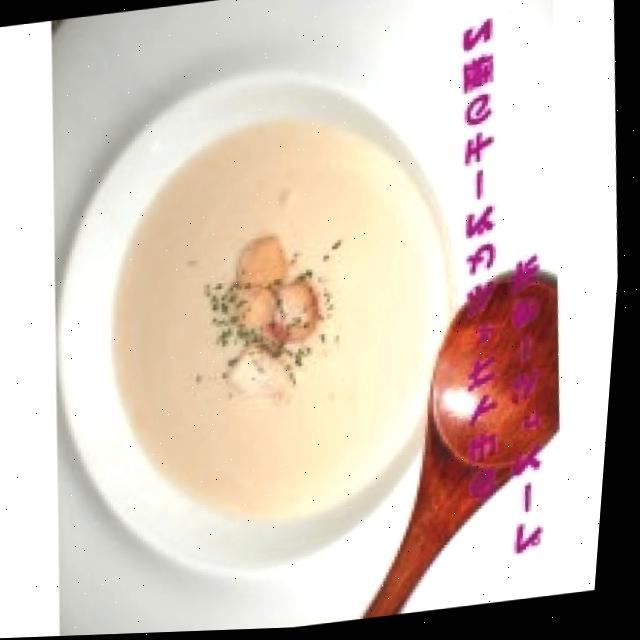汤锅炖物: (23, 42, 496, 597)
